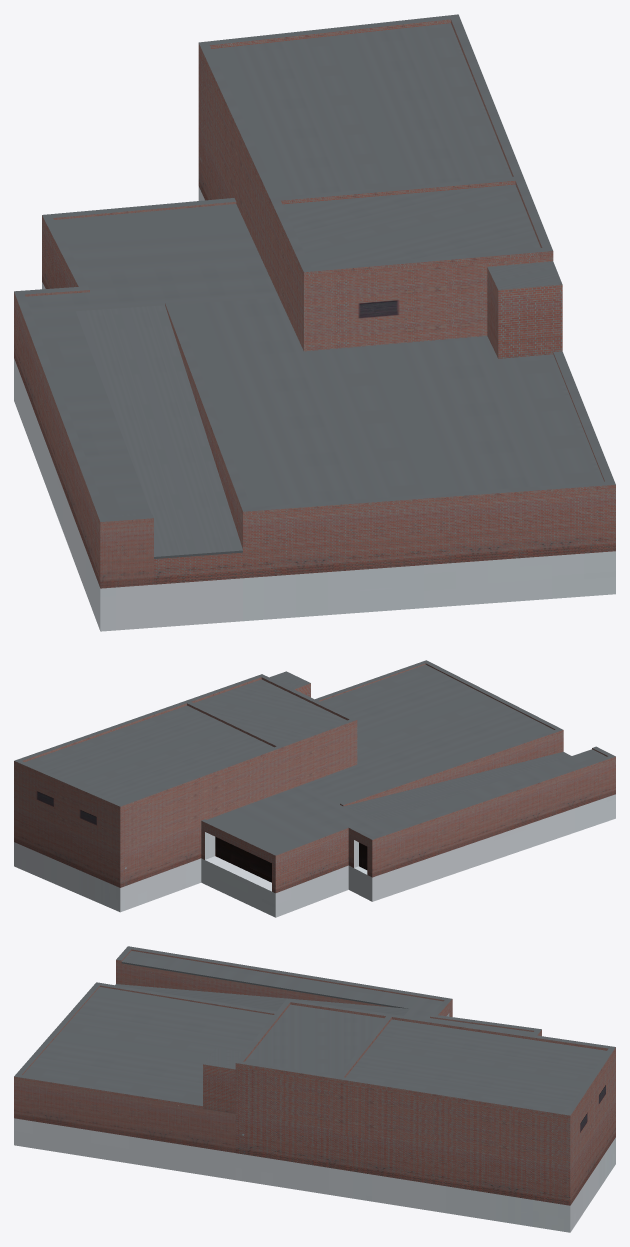
3 renders of one model, top to bottom at view 1: azimuth 30°, elevation 25°; view 2: azimuth 150°, elevation 25°; view 3: azimuth 270°, elevation 25°, orthographic. The views are drawn at different scales.
Parts seen in each view (by area): view 1: Group_003, Group_002, Group_010, Group_004, Group_017, Group_005, Group_023, Group_028, Group_021, Group_024, Group_014, Group_019 (+7 smaller); view 2: Group_003, Group_024, Group_002, Group_010, Group_021, Group_014, Group_004, Group_026, Group_022, Group_005, Group_012, Group_006 (+7 smaller); view 3: Group_024, Group_003, Group_002, Group_010, Group_022, Group_017, Group_023, Group_004, Group_026, Group_014, Group_006, Group_005 (+4 smaller).
Part boxes in pixels (bbox=[...]): Group_003: bbox=[175, 297, 603, 506]; Group_002: bbox=[211, 23, 512, 196]; Group_010: bbox=[14, 14, 615, 521]; Group_004: bbox=[26, 204, 278, 517]; Group_017: bbox=[171, 324, 615, 578]; Group_005: bbox=[76, 305, 242, 558]; Group_023: bbox=[243, 551, 615, 621]; Group_028: bbox=[304, 257, 553, 351]; Group_021: bbox=[14, 282, 242, 631]; Group_024: bbox=[198, 49, 303, 350]; Group_014: bbox=[14, 296, 100, 587]; Group_019: bbox=[487, 267, 562, 358]; Group_003: bbox=[302, 664, 553, 804]; Group_024: bbox=[120, 723, 357, 887]; Group_002: bbox=[25, 705, 273, 803]; Group_010: bbox=[14, 660, 615, 855]; Group_021: bbox=[201, 794, 615, 917]; Group_014: bbox=[372, 759, 615, 877]; Group_004: bbox=[207, 749, 606, 852]; Group_026: bbox=[14, 764, 120, 887]; Group_022: bbox=[14, 842, 201, 912]; Group_005: bbox=[343, 752, 571, 823]; Group_012: bbox=[201, 823, 348, 893]; Group_006: bbox=[14, 677, 357, 809]; Group_024: bbox=[235, 1067, 570, 1205]; Group_003: bbox=[23, 987, 273, 1103]; Group_002: bbox=[346, 1019, 606, 1112]; Group_010: bbox=[14, 946, 615, 1115]; Group_022: bbox=[235, 1137, 615, 1232]; Group_017: bbox=[14, 1079, 235, 1152]; Group_023: bbox=[14, 1118, 235, 1179]; Group_004: bbox=[121, 951, 533, 1034]; Group_026: bbox=[570, 1051, 615, 1205]; Group_014: bbox=[116, 962, 391, 1007]; Group_006: bbox=[235, 1002, 615, 1119]; Group_005: bbox=[115, 984, 409, 1015].
Size of the model in its own units: 34.56 by 8.67 by 40.36.
Materials: 14 (12 with a texture image).
